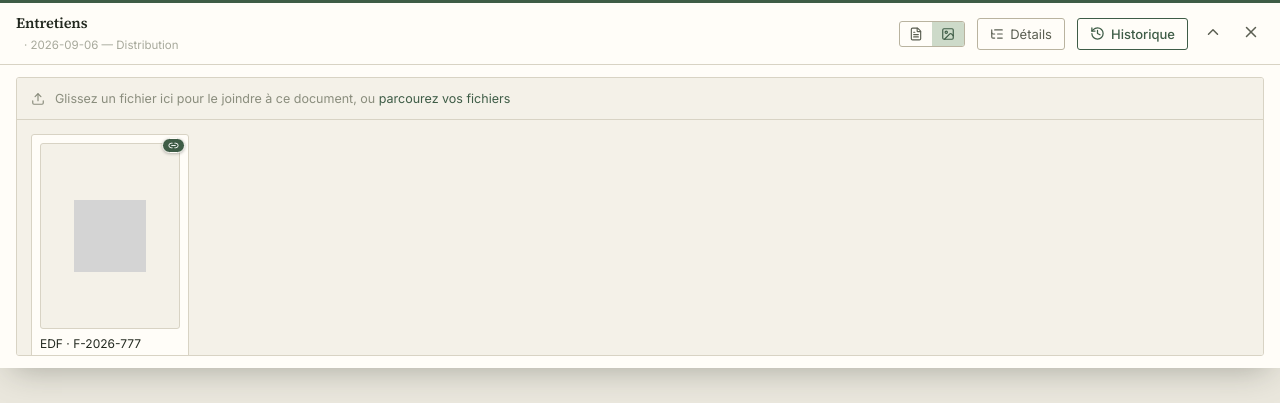
un document lié se regarde sans quitter la fiche (§22.73) › dit ce que le document porte, sans aller le chercher
Step 1. Click the text "EDF · F-2026-777" → (91, 343), box [40,336,141,351]
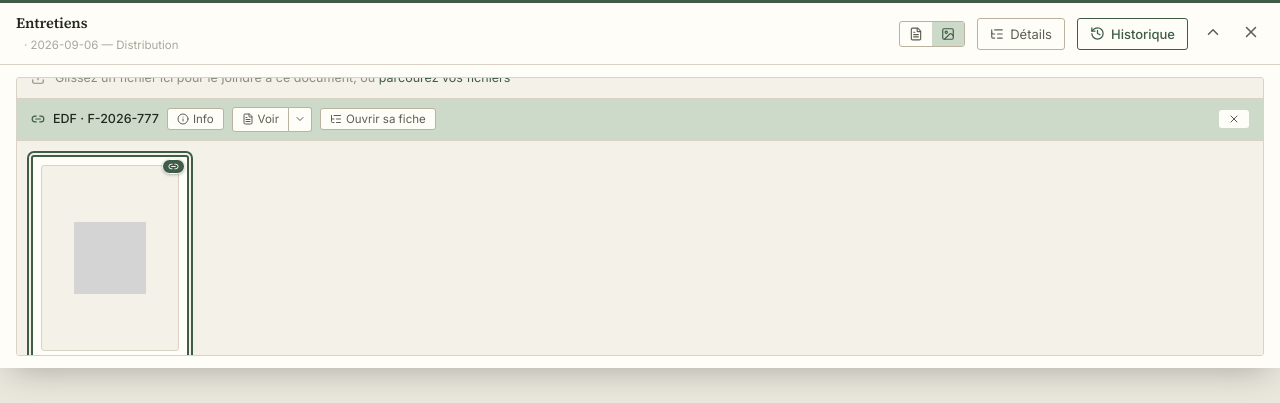
Step 2. Click the button titled "Ce que ce document porte" → (195, 119), box [167,108,224,130]
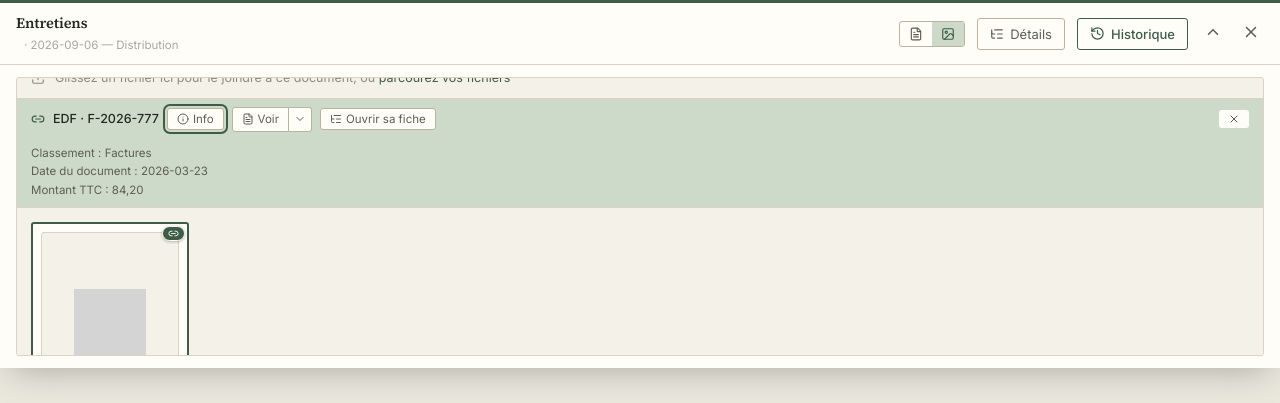
Expected: the text "Montant TTC : 84,20" is shown, [31,183,144,197]
